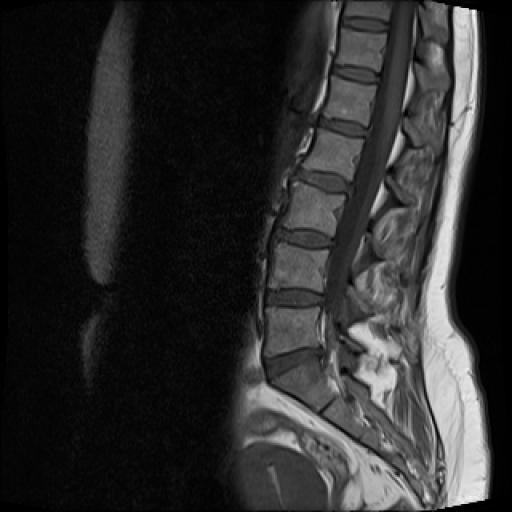L1: (321, 75, 377, 126)
L2: (303, 128, 363, 180)
L3: (281, 183, 345, 236)
L4: (269, 244, 329, 292)
L5: (264, 307, 320, 358)
S1: (271, 358, 336, 412)
